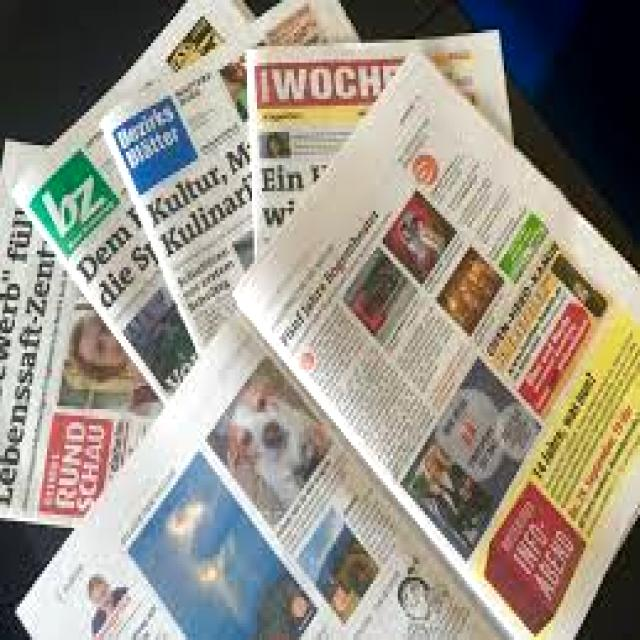Paper: (12, 36, 640, 640), (6, 0, 256, 406), (96, 0, 362, 354), (245, 23, 516, 257), (0, 140, 157, 533)
